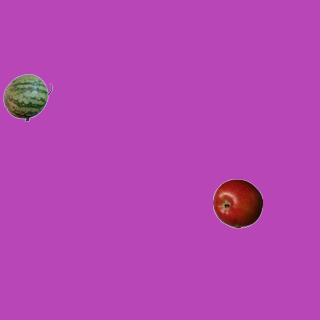Apple Braeburn: (212, 178, 262, 228)
Watermelon: (2, 72, 52, 122)
